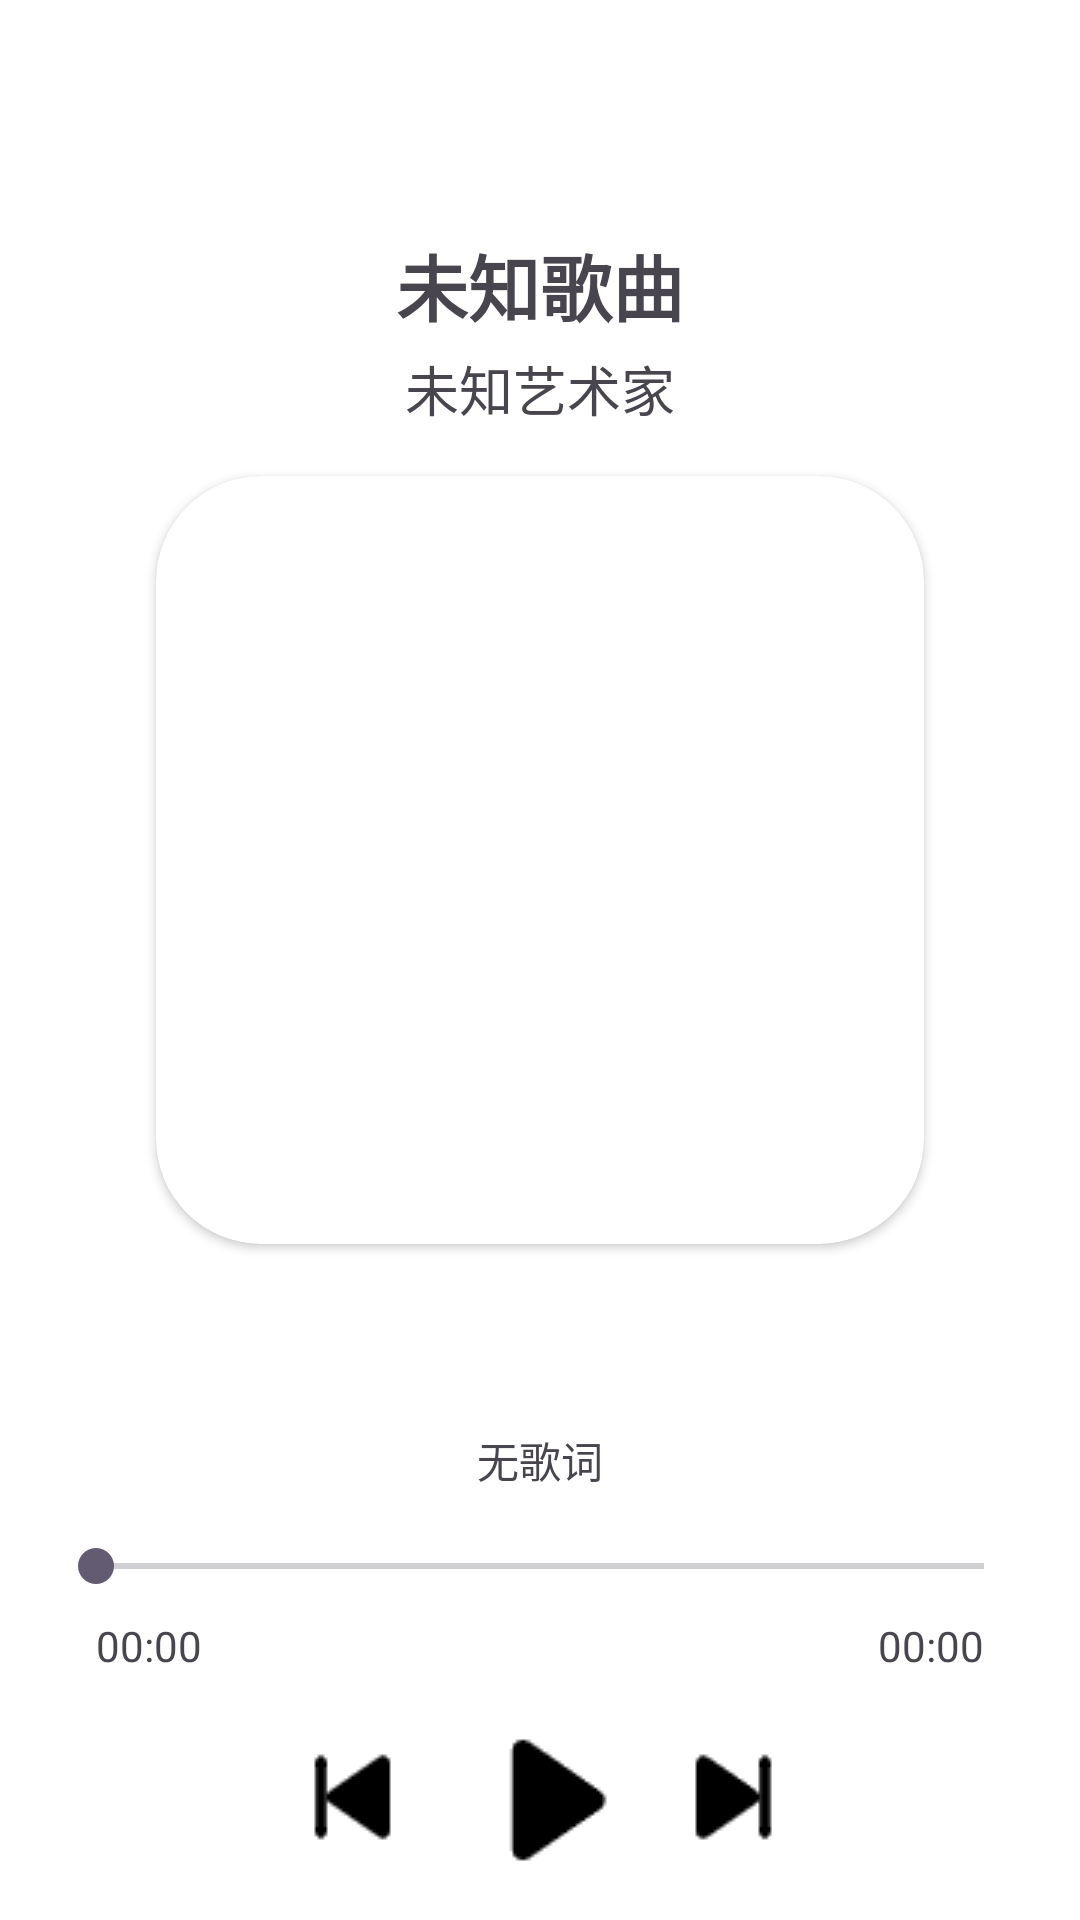

Named icons in this screenshot (1080 × 1920) and their bounding boxes, bbox(x1, y1, x2, y2):
Next: bbox(695, 1754, 772, 1840)
Play: bbox(510, 1739, 607, 1861)
Previous: bbox(314, 1754, 391, 1840)
